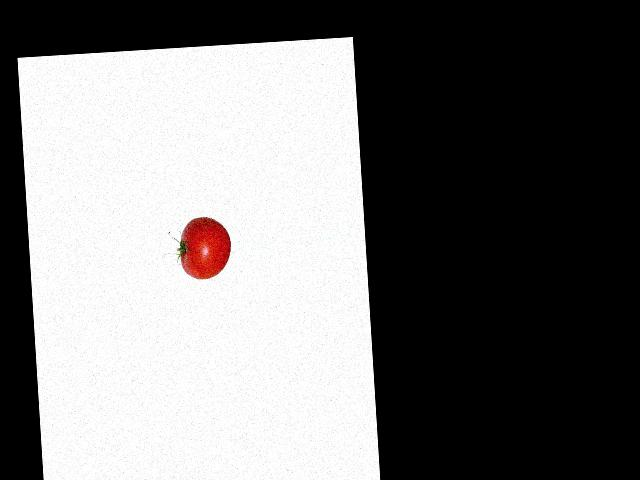tomato: (178, 216, 232, 280)
